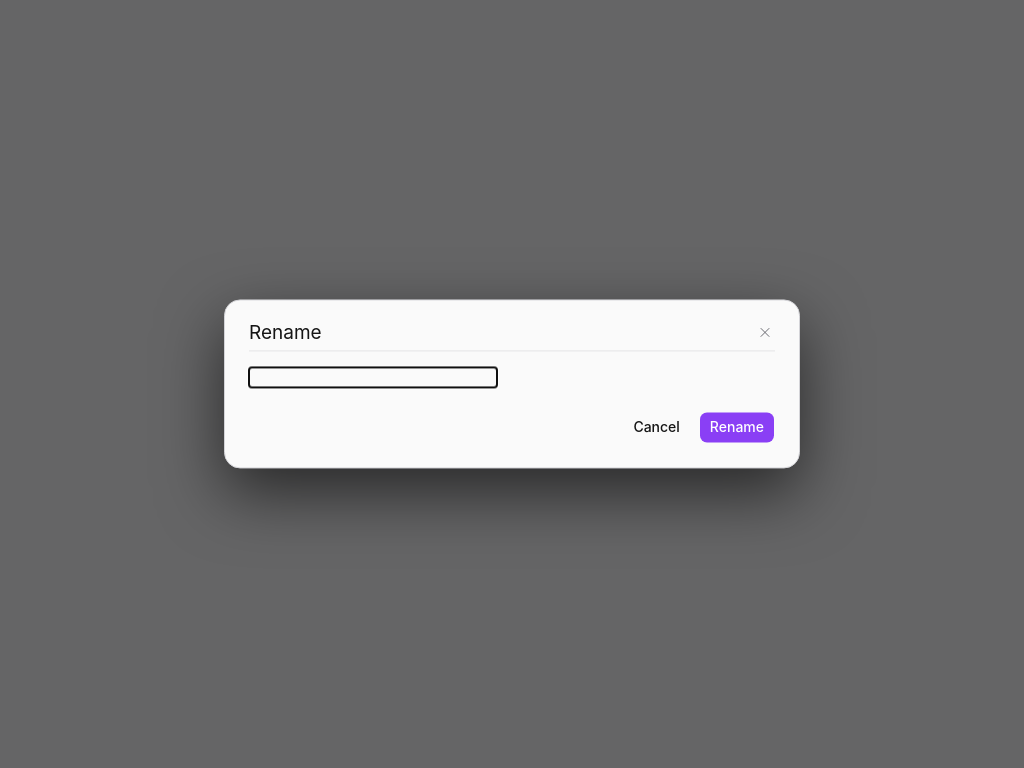
should show a thrown string as the message
Click the button "Rename". click: (737, 428)
box: [699,412,775,444]
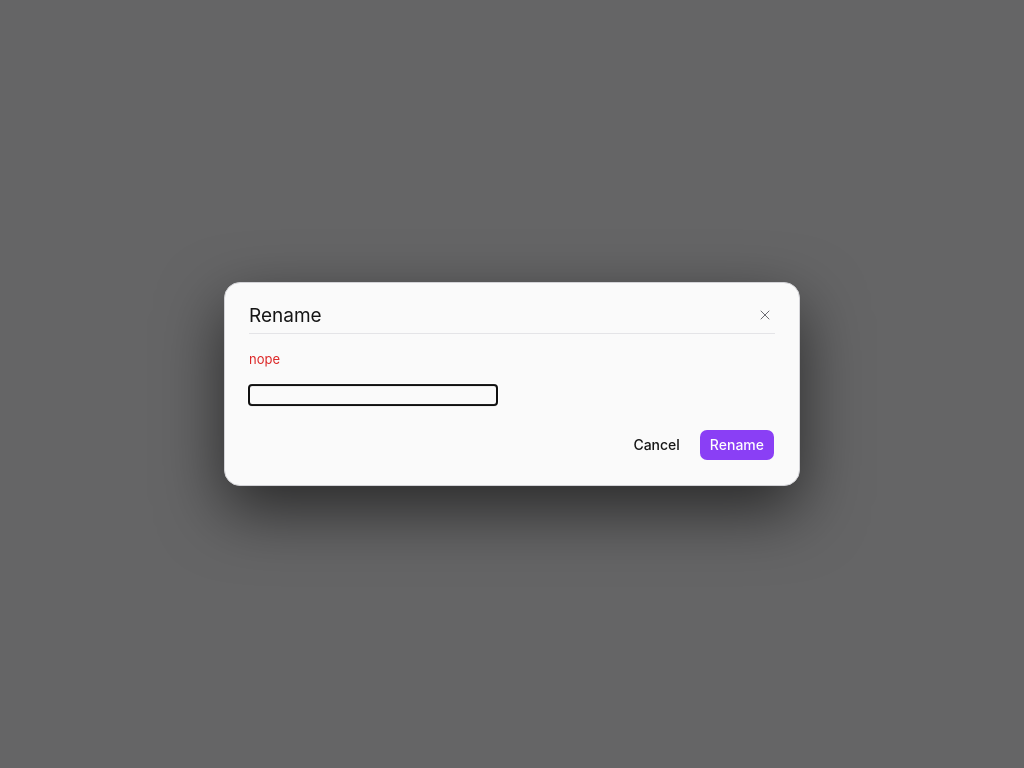
Result: the message reads "nope" at [249,351,280,367]
